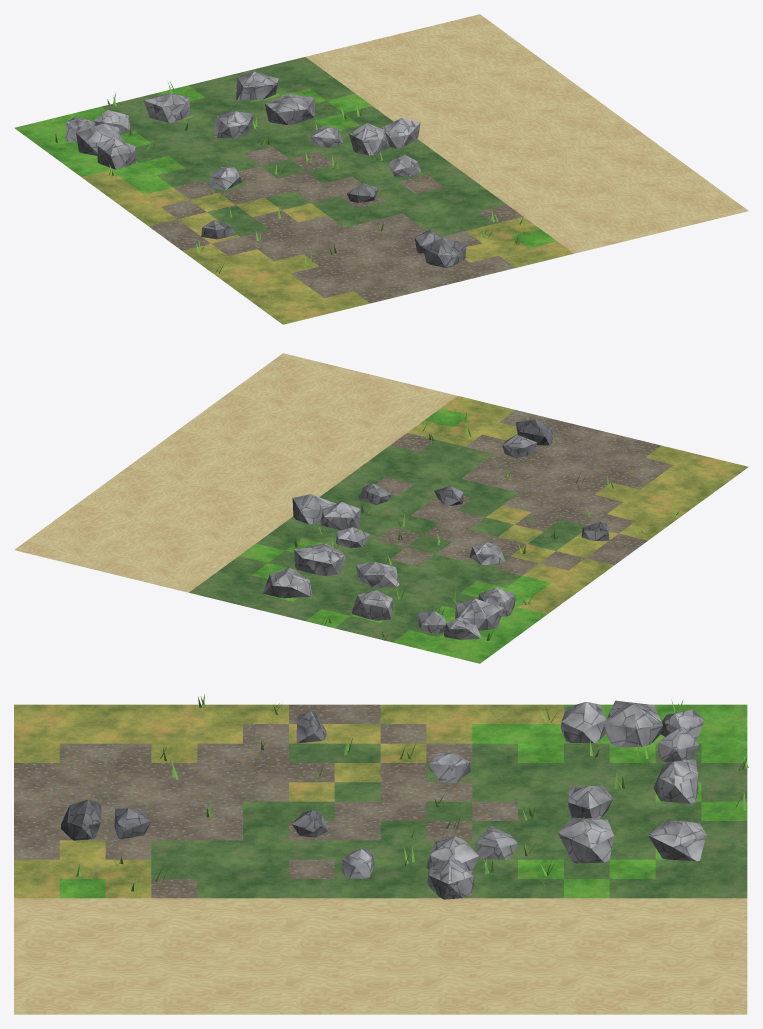
Rendered from chunk_11_16.glb.
3 renders of one model, top to bottom at view 1: azimuth 30°, elevation 25°; view 2: azimuth 150°, elevation 25°; view 3: azimuth 270°, elevation 25°, orthographic. The views are drawn at different scales.
Visible parts, largest first — view 1: chunk_11_16; view 2: chunk_11_16; view 3: chunk_11_16.
Part boxes in pixels (x1,y1,x2,y2): chunk_11_16: (14, 14, 748, 324); chunk_11_16: (14, 353, 748, 663); chunk_11_16: (14, 694, 748, 1014).
Size of the model in its own units: 16.04 by 1.29 by 16.04.
8 materials, 7 textured.
